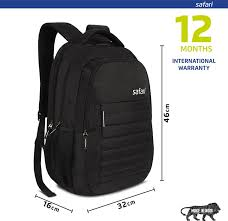backpack: (33, 21, 154, 197)
